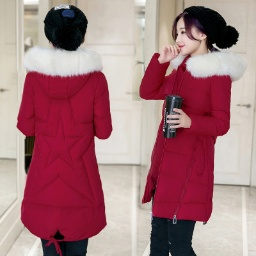face: (165, 1, 240, 60), (39, 1, 98, 61)
